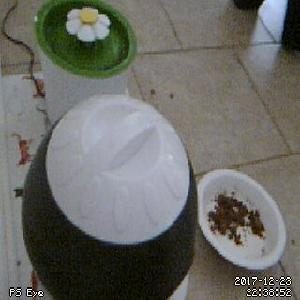fountain: (33, 1, 137, 79)
